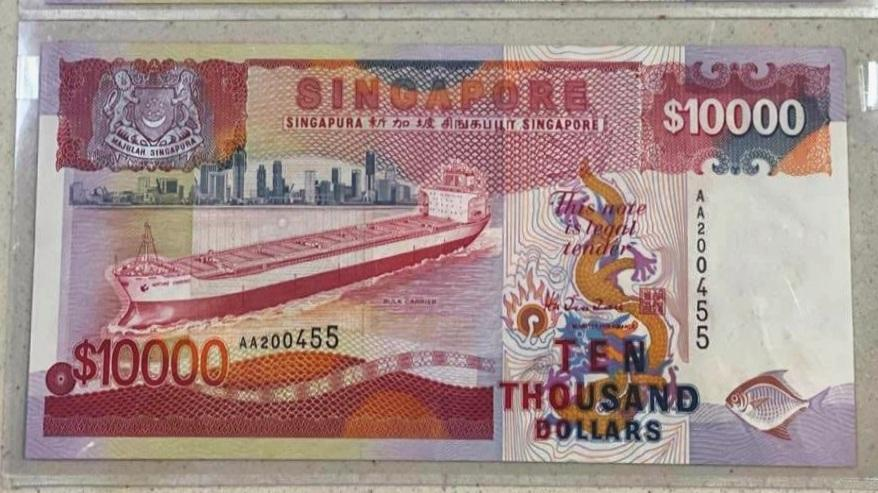10000SingaporeDollar: (40, 47, 845, 456)
